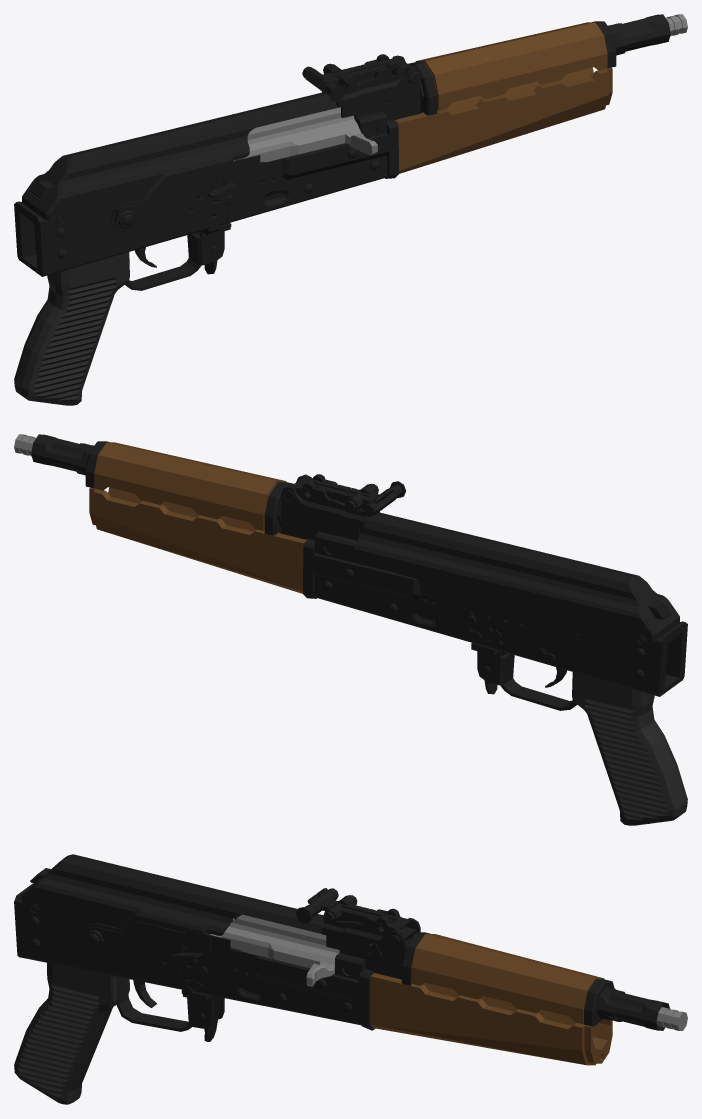
Rendered from zastava_m70.glb.
3 renders of one model, top to bottom at view 1: azimuth 30°, elevation 25°; view 2: azimuth 150°, elevation 25°; view 3: azimuth 330°, elevation 25°, orthographic.
Parts seen in each view (by area): view 1: zstvm70 receiver_12, zstvm70 handguard_13 (×2), zstvm70 dust cover_11, zstvm70 grip_14, zstvm70 bolt_5, zstvm70 selector_8; view 2: zstvm70 receiver_12, zstvm70 handguard_13 (×2), zstvm70 dust cover_11, zstvm70 grip_14; view 3: zstvm70 receiver_12, zstvm70 handguard_13 (×2), zstvm70 dust cover_11, zstvm70 grip_14, zstvm70 bolt_5, zstvm70 selector_8, zstvm70 mag release_6.
Boxes of the visible parts, x1,y1,x2,y2 form: zstvm70 receiver_12: [14, 14, 670, 290]; zstvm70 handguard_13 (×2): [385, 22, 612, 178]; zstvm70 dust cover_11: [22, 92, 337, 220]; zstvm70 grip_14: [14, 252, 129, 405]; zstvm70 bolt_5: [233, 14, 687, 162]; zstvm70 selector_8: [110, 155, 260, 232]; zstvm70 receiver_12: [31, 434, 687, 710]; zstvm70 handguard_13 (×2): [89, 442, 316, 598]; zstvm70 dust cover_11: [354, 512, 679, 640]; zstvm70 grip_14: [572, 672, 687, 825]; zstvm70 receiver_12: [14, 868, 669, 1031]; zstvm70 handguard_13 (×2): [359, 933, 612, 1065]; zstvm70 dust cover_11: [22, 854, 338, 935]; zstvm70 grip_14: [14, 963, 129, 1104]; zstvm70 bolt_5: [210, 914, 687, 1030]; zstvm70 selector_8: [83, 918, 230, 958]; zstvm70 mag release_6: [198, 996, 221, 1041].
Size of the model in its own units: 4.96 by 1.92 by 0.6379.
